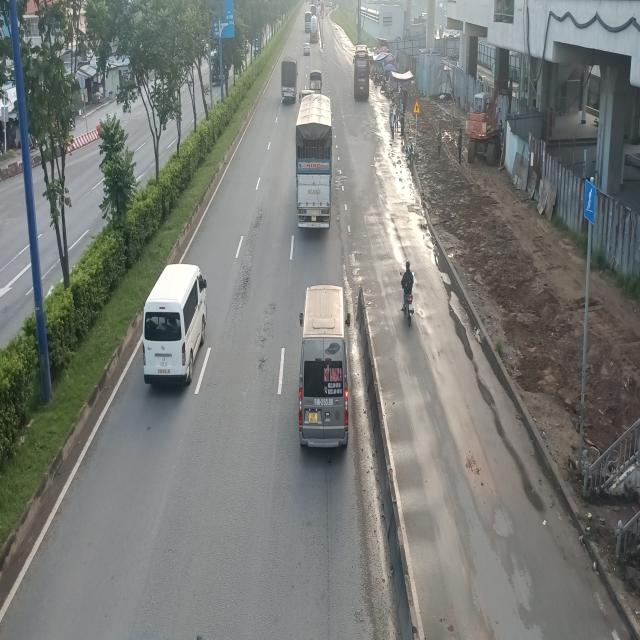coach: (353, 46, 371, 100)
truck: (293, 92, 333, 232), (280, 57, 298, 106)
van: (299, 289, 354, 453), (140, 262, 207, 386)
